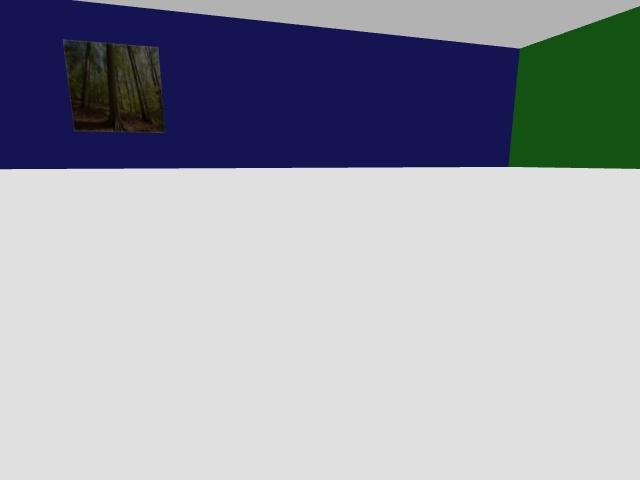tree: (107, 43, 125, 131), (136, 46, 159, 111), (127, 46, 147, 120), (81, 42, 89, 109)
